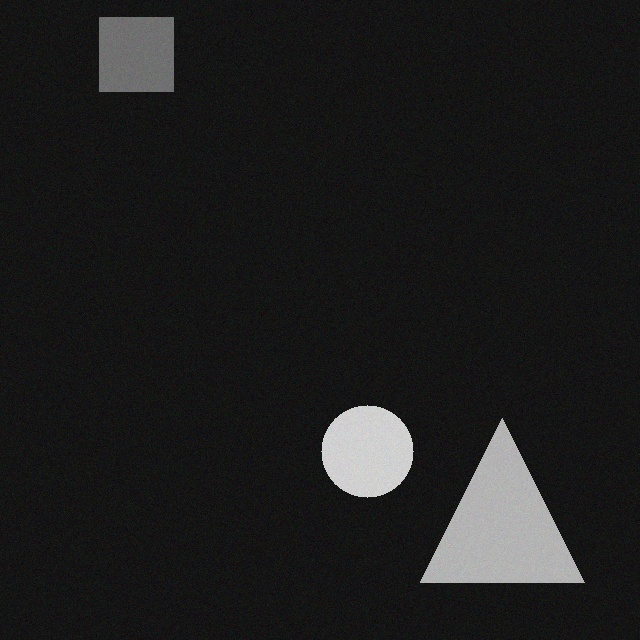circle: (332, 409, 424, 501)
square: (110, 21, 184, 95)
triangle: (431, 422, 595, 586)
